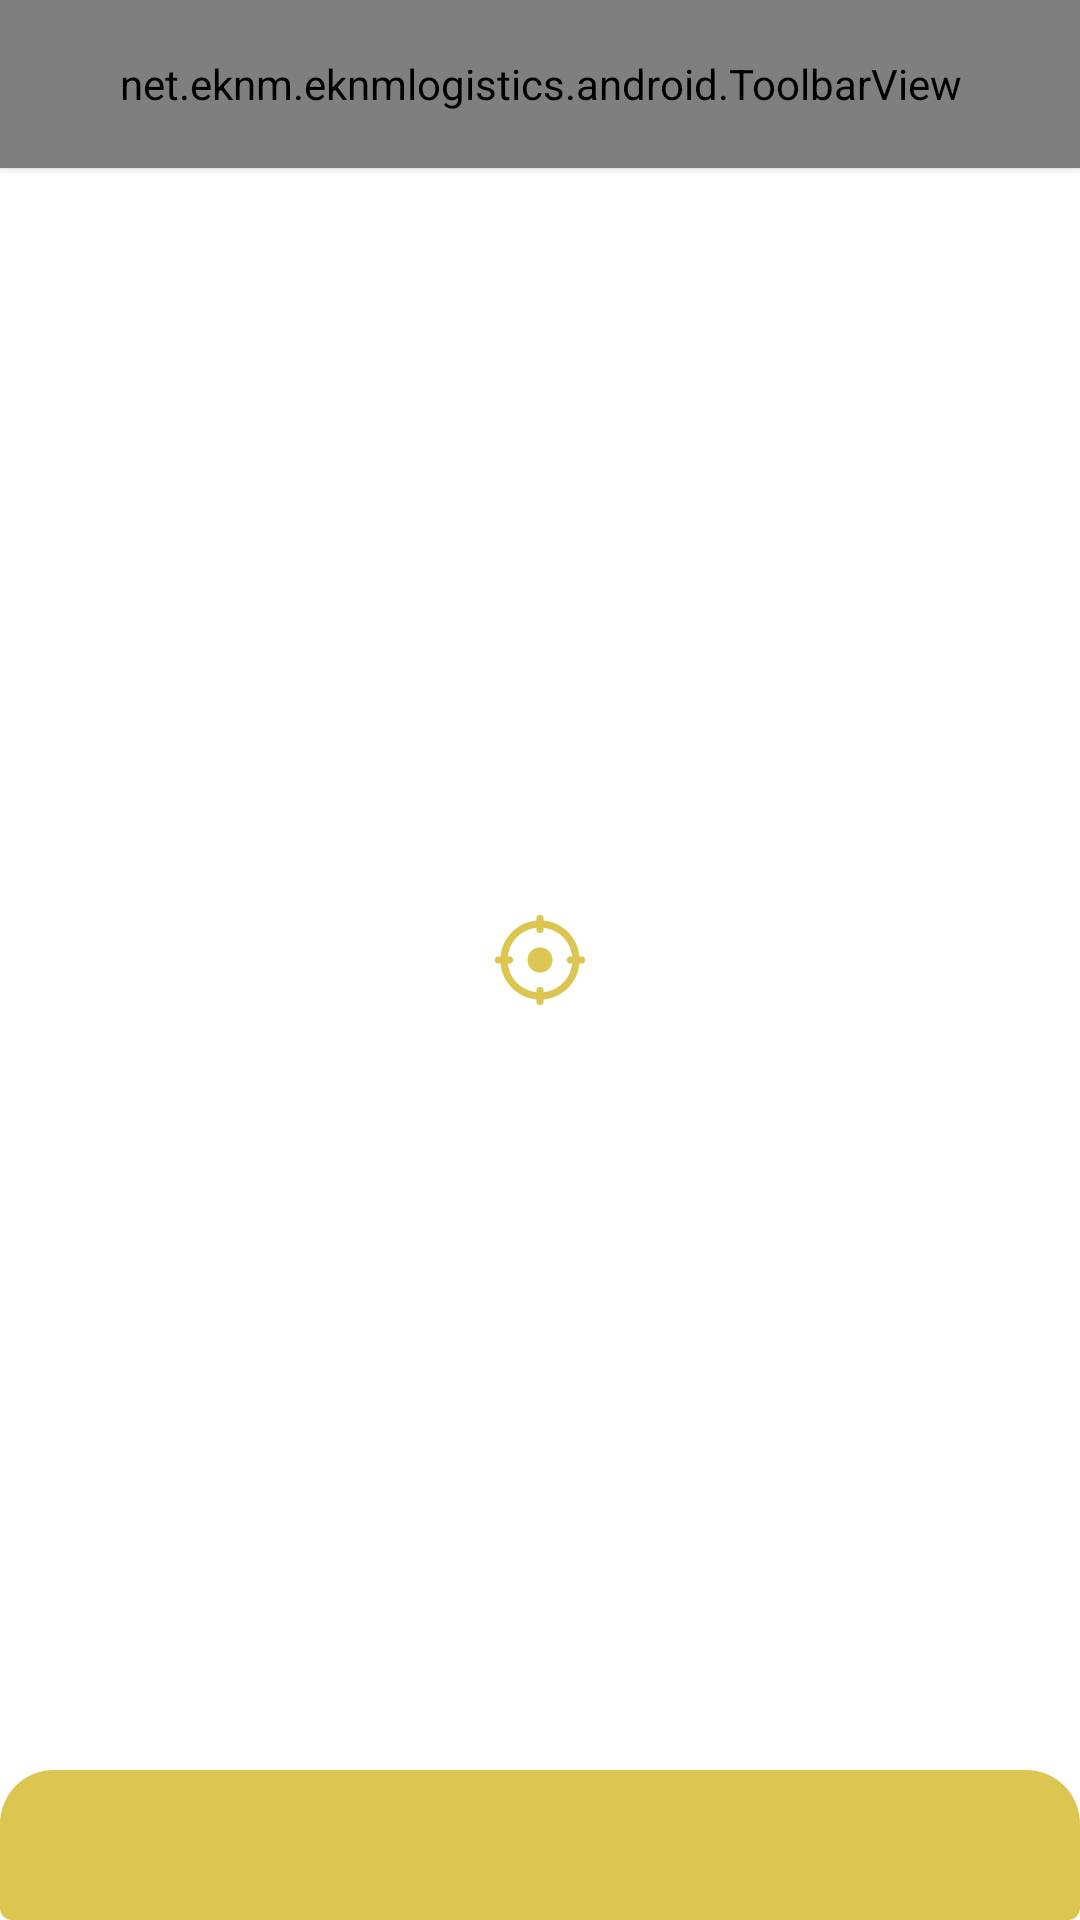

Where icons sit on this 1080w x 1920h app screen, as {"left": x1, "top": y1, "right": x2, "bottom": y2}:
center location: {"left": 495, "top": 915, "right": 585, "bottom": 1005}
